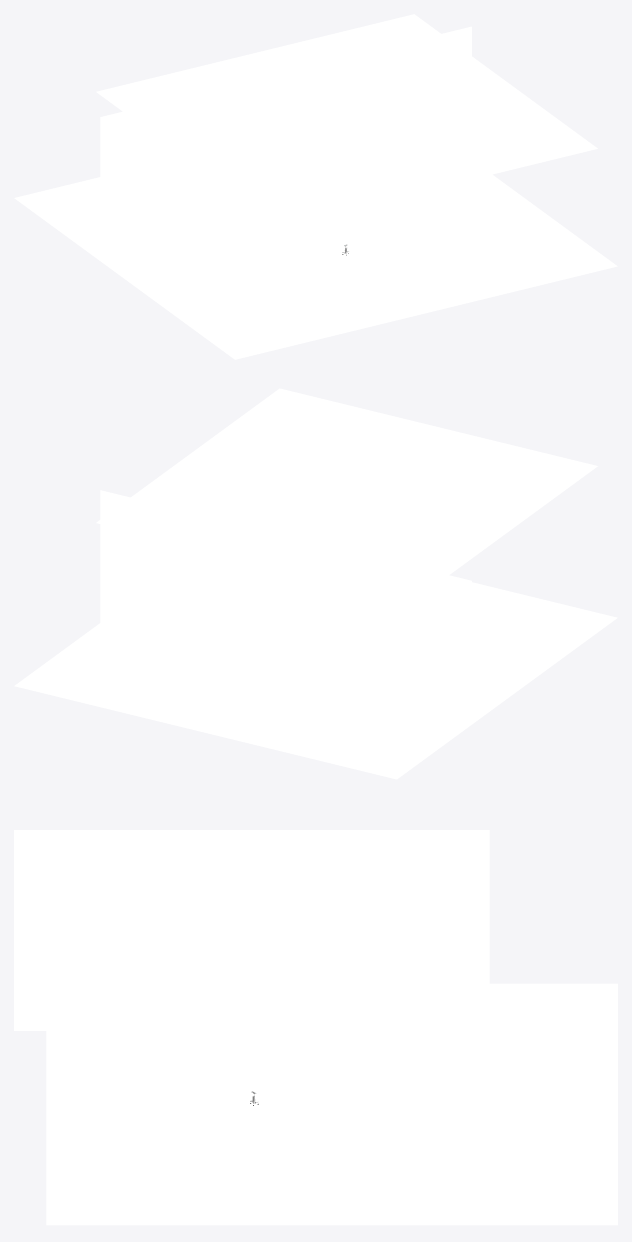
File: SinoPower-S.gltf
The picture shows the model from 3 angles, top to bottom: view 1: azimuth 30°, elevation 25°; view 2: azimuth 150°, elevation 25°; view 3: azimuth 270°, elevation 25°; orthographic projection. The views are drawn at different scales.
Parts seen in each view (by area): view 1: luz-teto, luz-chão, luz-parede; view 2: luz-teto, luz-parede, luz-chão; view 3: luz-chão, luz-teto.
Part boxes in pixels (x1,y1,x2,y2): luz-teto: (96, 14, 597, 226); luz-chão: (14, 174, 617, 359); luz-parede: (100, 26, 471, 255); luz-teto: (96, 388, 597, 600); luz-parede: (100, 490, 471, 718); luz-chão: (14, 582, 617, 779); luz-chão: (46, 983, 617, 1225); luz-teto: (14, 830, 489, 1030).
Size of the model in its own units: 49457 by 20885 by 52243.
